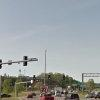Traffic light: (17, 42, 37, 72)
